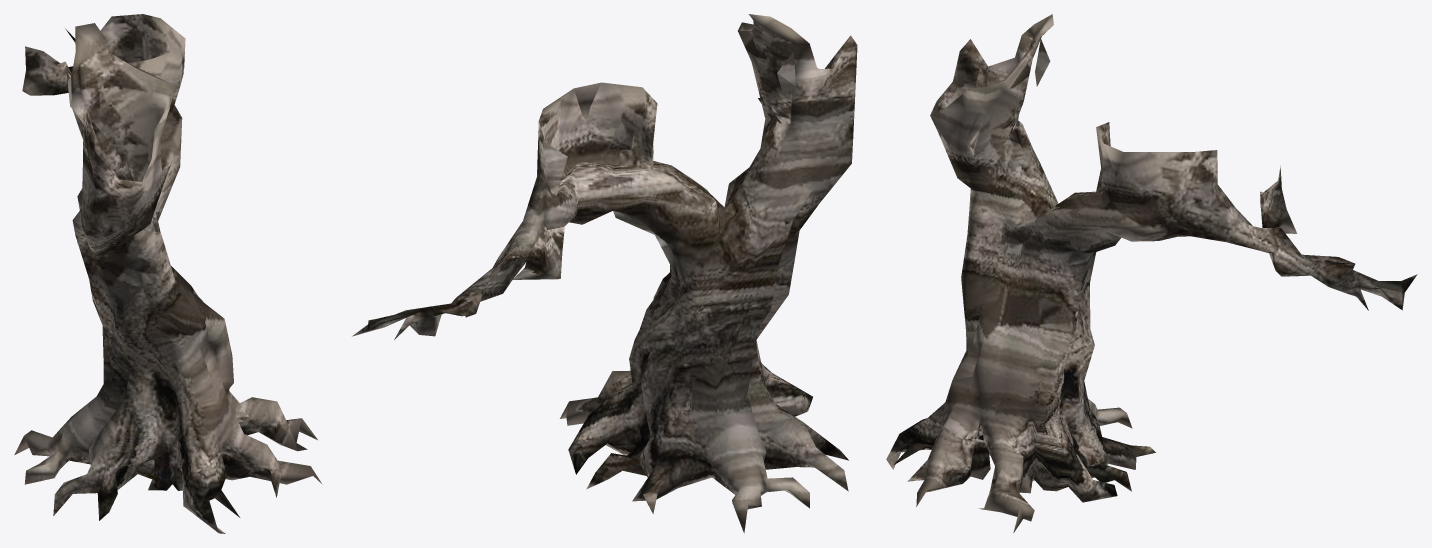
File: deadtree.glb
The picture shows the model from 3 angles, left to right: view 1: azimuth 30°, elevation 25°; view 2: azimuth 150°, elevation 25°; view 3: azimuth 270°, elevation 25°; orthographic projection. The views are drawn at different scales.
Parts seen in each view (by area): view 1: geometry_0; view 2: geometry_0; view 3: geometry_0.
Part boxes in pixels (x1,y1,x2,y2): geometry_0: (14, 14, 322, 533); geometry_0: (352, 14, 857, 533); geometry_0: (886, 14, 1417, 532).
Size of the model in its own units: 3.66 by 5.96 by 6.73.
Materials: 1 (1 with a texture image).
